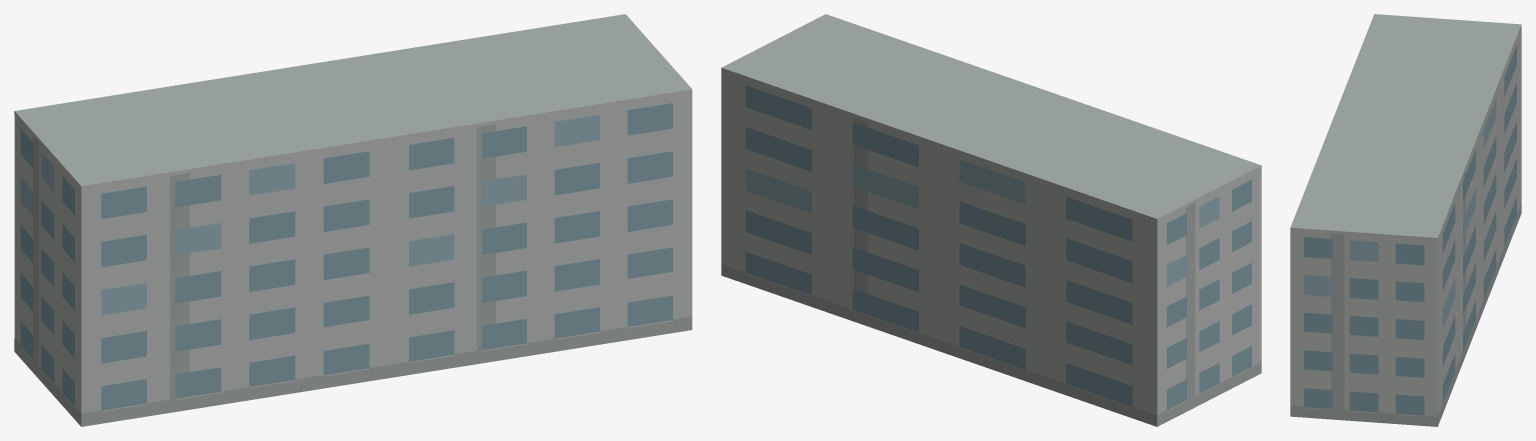
Rendered from residential-21a21fa1-cfa5-43c2-b706-78cf9bd6d57d.glb.
3 views of the same model, side by side, from view 1: azimuth 30°, elevation 25°; view 2: azimuth 150°, elevation 25°; view 3: azimuth 270°, elevation 25° (orthographic). The views are drawn at different scales.
Parts seen in each view (by area): view 1: residential-21a21fa1-cfa5-43c2-b706-78cf9bd6d57d.tmp; view 2: residential-21a21fa1-cfa5-43c2-b706-78cf9bd6d57d.tmp; view 3: residential-21a21fa1-cfa5-43c2-b706-78cf9bd6d57d.tmp.
Boxes of the visible parts, x1=… form: residential-21a21fa1-cfa5-43c2-b706-78cf9bd6d57d.tmp: x1=14, y1=14, x2=692, y2=426; residential-21a21fa1-cfa5-43c2-b706-78cf9bd6d57d.tmp: x1=721, y1=14, x2=1261, y2=426; residential-21a21fa1-cfa5-43c2-b706-78cf9bd6d57d.tmp: x1=1290, y1=14, x2=1521, y2=426.
Bounding box in the file's own units: 38.79 × 15.25 × 16.92.
